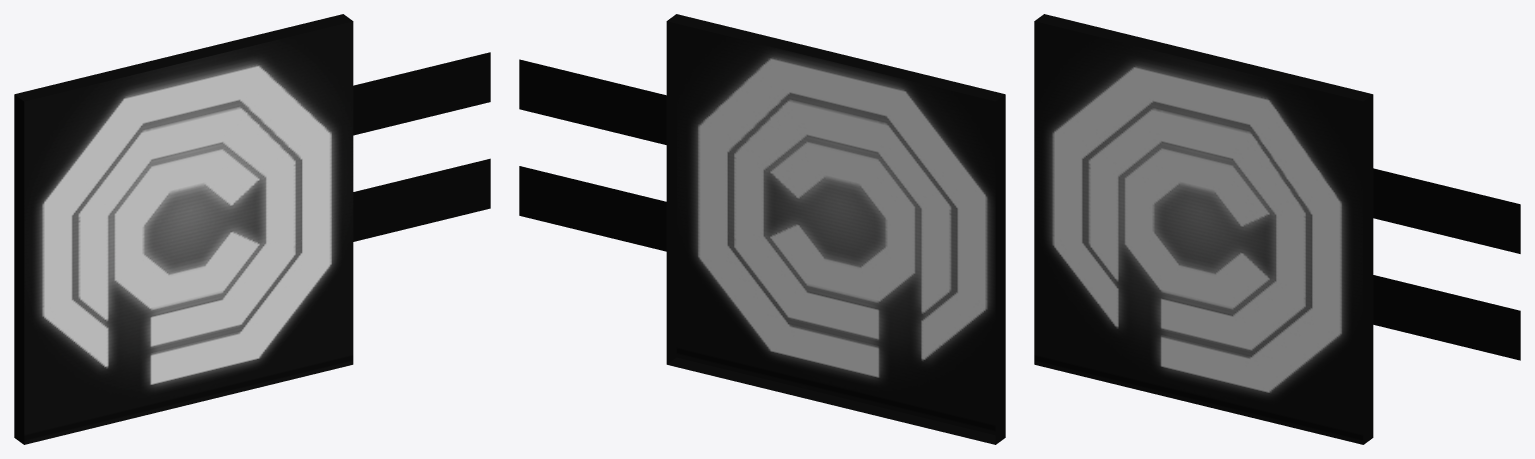
File: bb_small_left_01.fbx
The picture shows the model from 3 angles, left to right: view 1: azimuth 30°, elevation 25°; view 2: azimuth 150°, elevation 25°; view 3: azimuth 330°, elevation 25°; orthographic projection.
Visible parts, largest first — view 1: bb_small_left_01; view 2: bb_small_left_01; view 3: bb_small_left_01.
Part boxes in pixels (x1=…): bb_small_left_01: x1=14, y1=14, x2=490, y2=444; bb_small_left_01: x1=519, y1=14, x2=1005, y2=444; bb_small_left_01: x1=1034, y1=14, x2=1520, y2=444.
Bounding box in the file's own units: 189 × 130 × 6.81.
